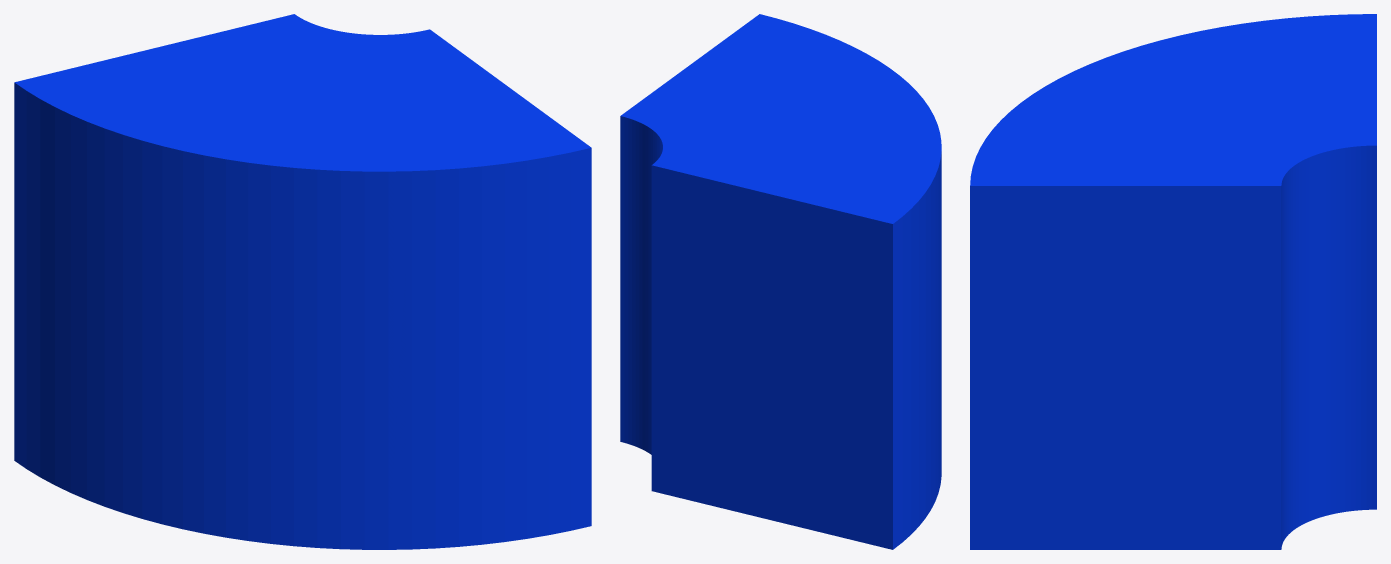
File: wall_corner.glb
The picture shows the model from 3 angles, left to right: view 1: azimuth 30°, elevation 25°; view 2: azimuth 150°, elevation 25°; view 3: azimuth 270°, elevation 25°; orthographic projection. The views are drawn at different scales.
Parts seen in each view (by area): view 1: wall_corner; view 2: wall_corner; view 3: wall_corner.
Part boxes in pixels (x1=…): wall_corner: x1=14, y1=14, x2=591, y2=549; wall_corner: x1=620, y1=14, x2=941, y2=549; wall_corner: x1=970, y1=14, x2=1376, y2=549.
Bounding box in the file's own units: 0.81 × 0.8 × 0.81.
